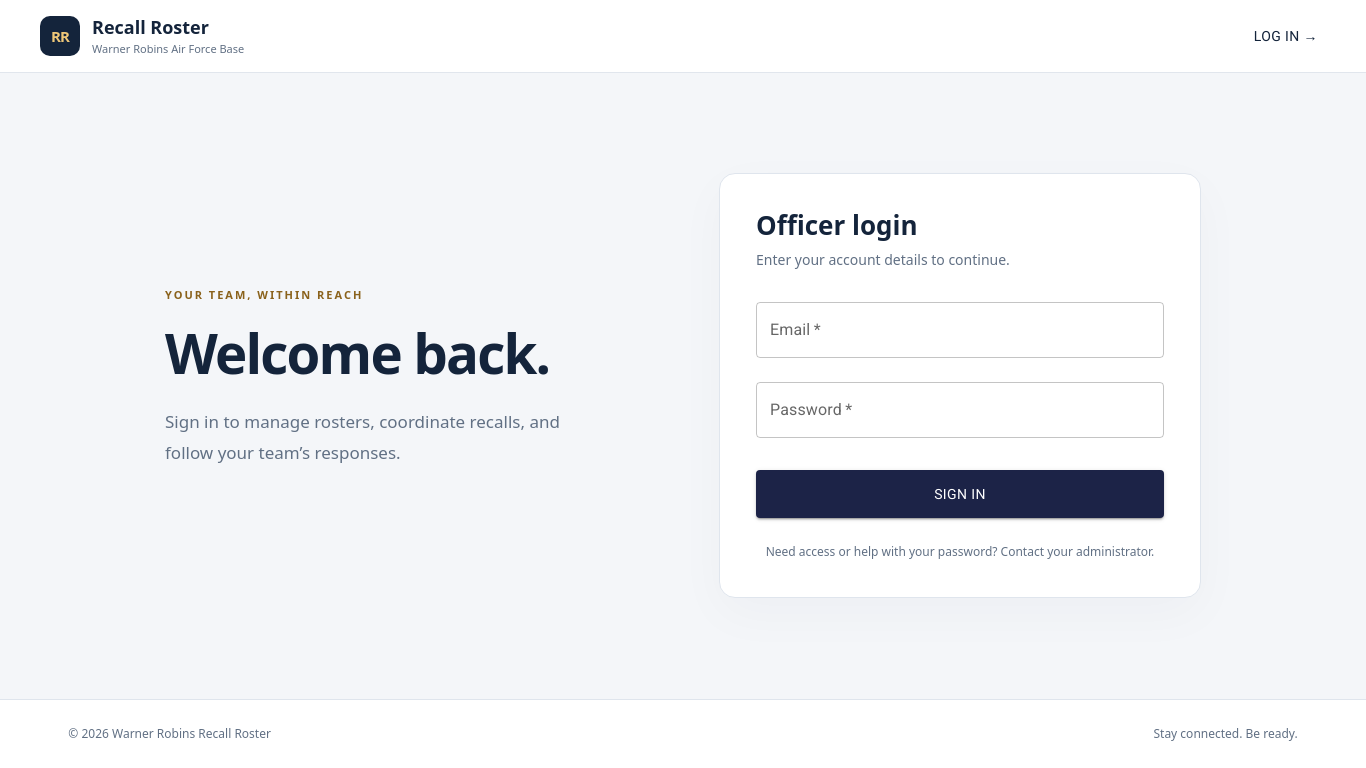
Test: login prevents duplicate requests and reports connectivity failures
Type "officer@example.com" into the field labelled "Email *" at x=960, y=330, box [756,302,1164,358]
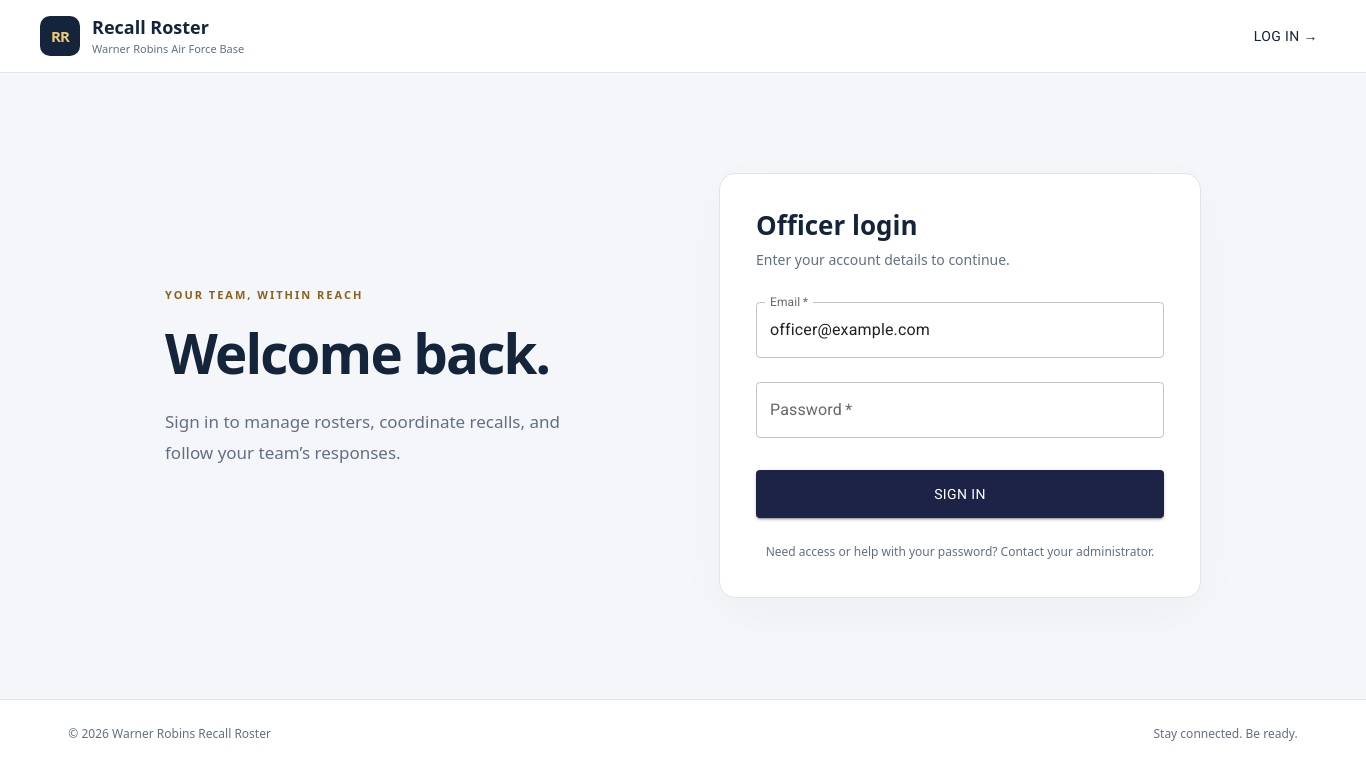
Type "test-password" into the password field labelled "Password *" at x=960, y=410, box [756,382,1164,438]
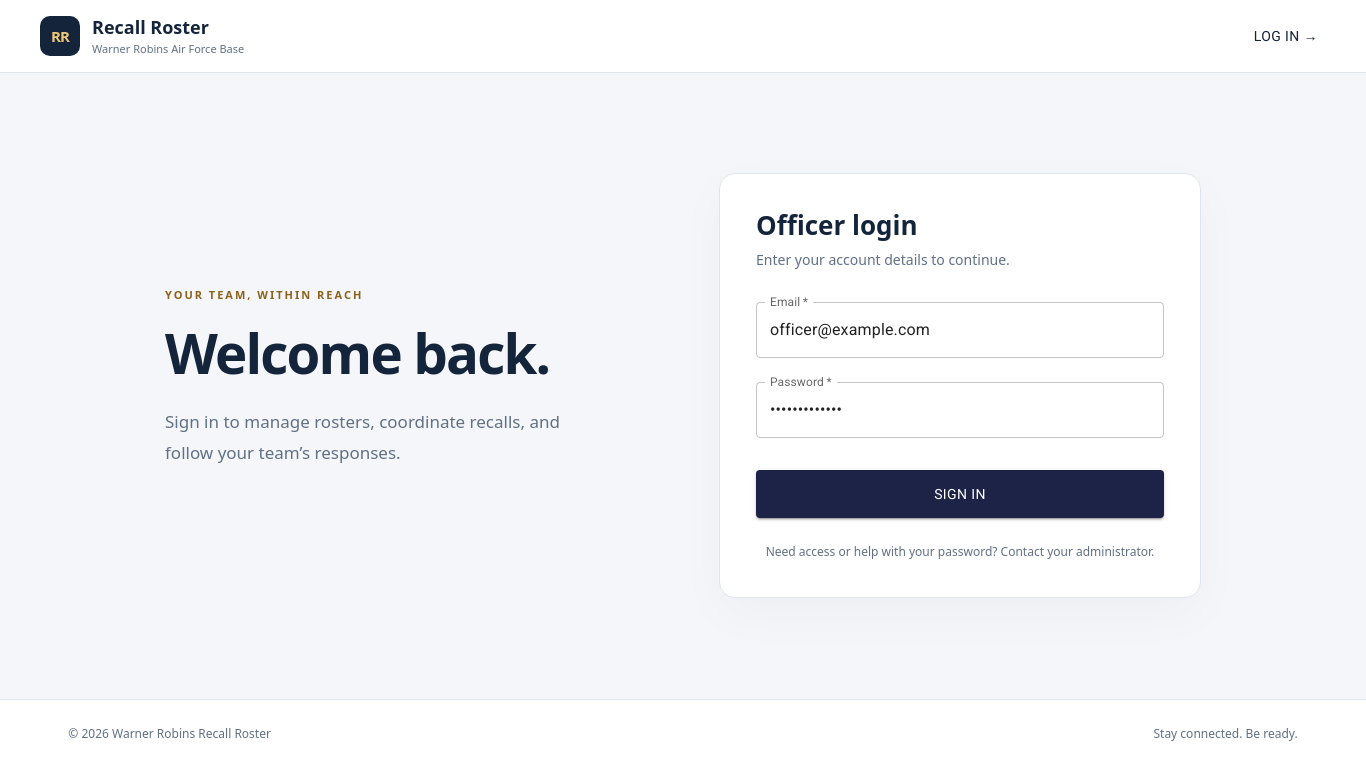
Click the button "Sign in" at x=960, y=494, box [756,470,1164,518]
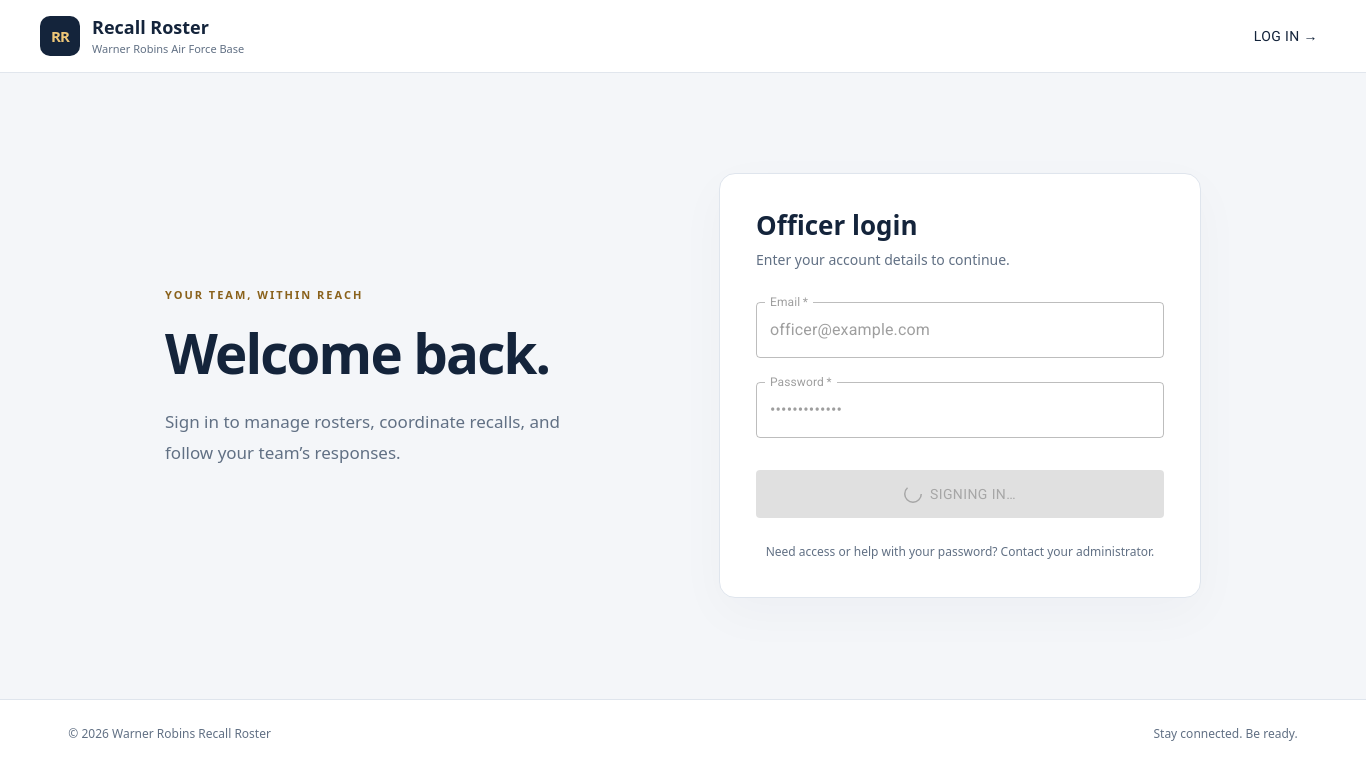
Expected: the button "Signing in…" is disabled, [756,470,1164,518]
Submit the form labelled "Email", box [756,286,1164,562]
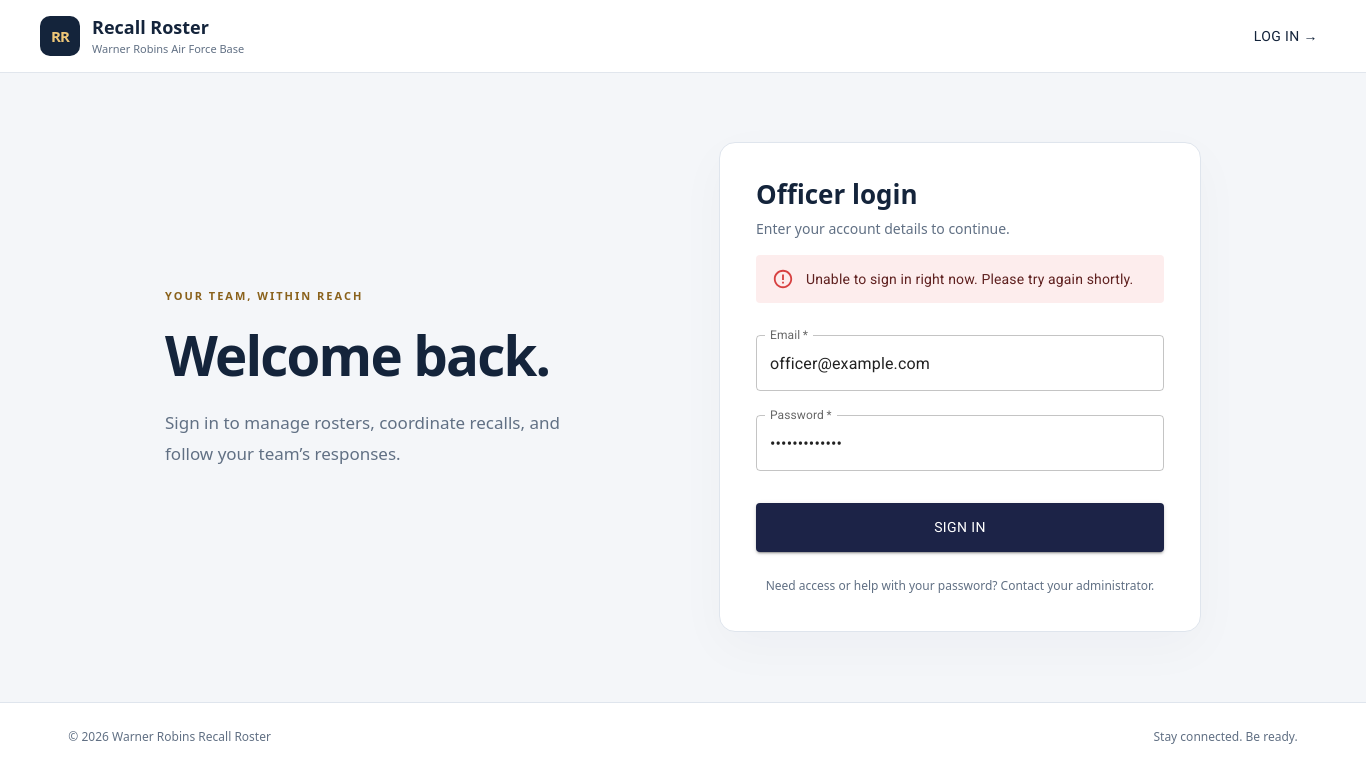
Expected: the message shows "Unable to sign in right now", [806,271,1133,287]
